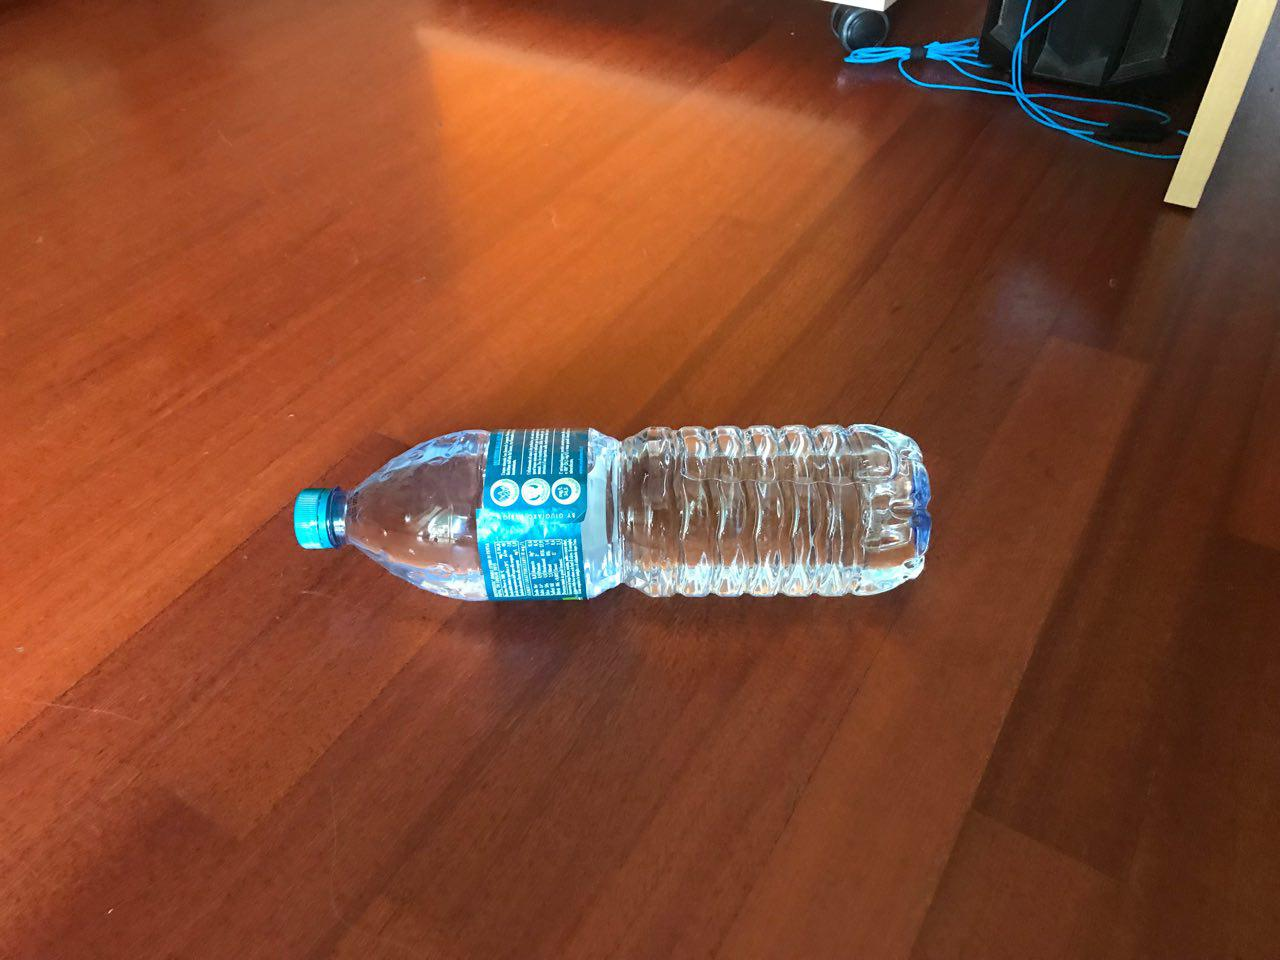san_bernardo: (290, 421, 934, 603)
